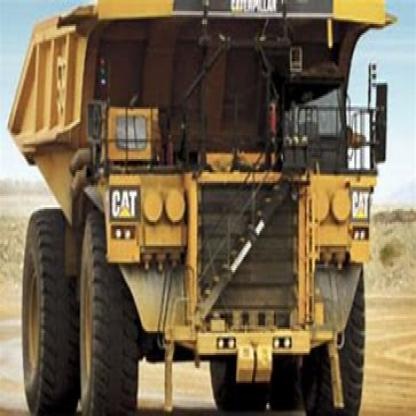dump_truck: (6, 0, 379, 414)
